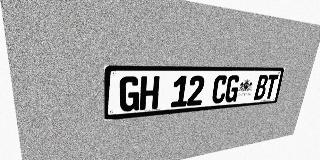1: (171, 76, 190, 107)
2: (187, 75, 205, 106)
B: (253, 75, 269, 100)
C: (211, 75, 228, 104)
G: (119, 76, 140, 112), (224, 75, 241, 103)
H: (139, 76, 160, 110)
T: (264, 75, 279, 99)
